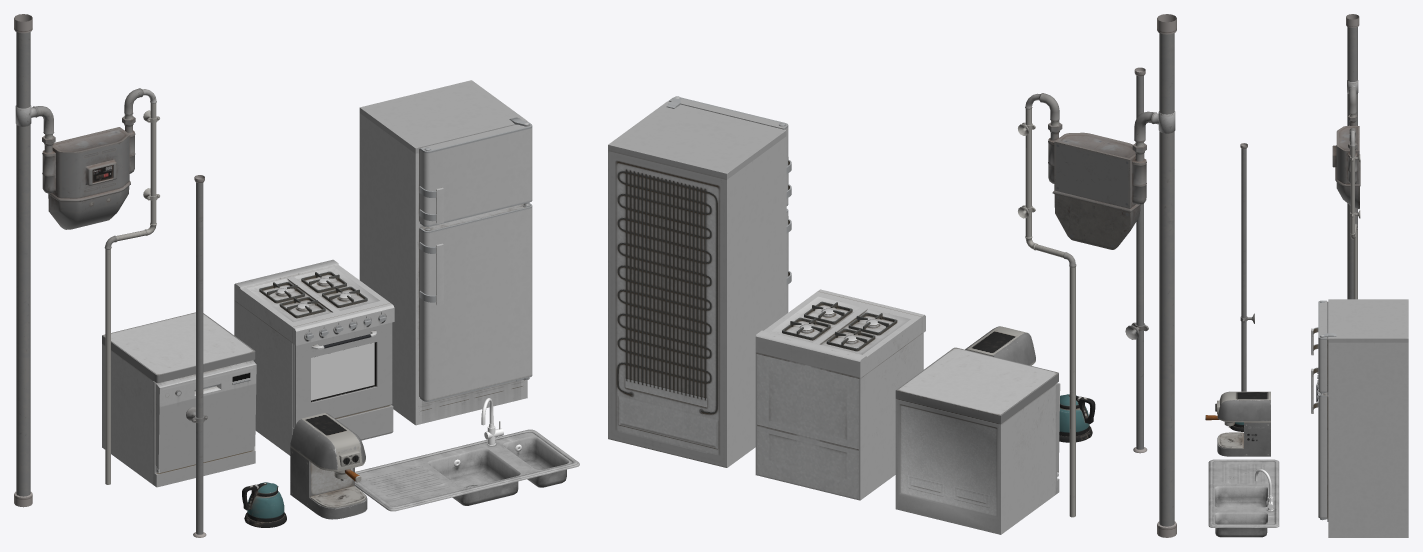
Rendered from Sketchfab_2023_03_18_18_37_07.fbx.
The picture shows the model from 3 angles, left to right: view 1: azimuth 30°, elevation 25°; view 2: azimuth 150°, elevation 25°; view 3: azimuth 270°, elevation 25°; orthographic projection. The views are drawn at different scales.
Parts seen in each view (by area): view 1: Refridgerator_A, Oven_A, Washing_Machine_A, Pipes_Kitchen_A, Sink_Kitchen_A, Coffeemachine_A, Pipes_Kitchen_A.001, Boiler_A; view 2: Refridgerator_A, Oven_A, Washing_Machine_A, Pipes_Kitchen_A, Pipes_Kitchen_A.001, Coffeemachine_A, Boiler_A; view 3: Refridgerator_A, Sink_Kitchen_A, Pipes_Kitchen_A, Coffeemachine_A, Pipes_Kitchen_A.001.
Part boxes in pixels (x1=…): Refridgerator_A: x1=359, y1=80, x2=532, y2=425; Oven_A: x1=234, y1=259, x2=394, y2=455; Washing_Machine_A: x1=102, y1=312, x2=256, y2=487; Pipes_Kitchen_A: x1=14, y1=14, x2=159, y2=507; Sink_Kitchen_A: x1=355, y1=398, x2=579, y2=511; Coffeemachine_A: x1=290, y1=413, x2=367, y2=519; Pipes_Kitchen_A.001: x1=186, y1=175, x2=207, y2=537; Boiler_A: x1=242, y1=482, x2=286, y2=527; Refridgerator_A: x1=608, y1=96, x2=791, y2=467; Oven_A: x1=755, y1=289, x2=925, y2=500; Washing_Machine_A: x1=895, y1=347, x2=1060, y2=534; Pipes_Kitchen_A: x1=1018, y1=14, x2=1176, y2=537; Pipes_Kitchen_A.001: x1=1125, y1=67, x2=1148, y2=453; Coffeemachine_A: x1=965, y1=326, x2=1035, y2=365; Boiler_A: x1=1059, y1=394, x2=1095, y2=442; Refridgerator_A: x1=1311, y1=299, x2=1408, y2=537; Sink_Kitchen_A: x1=1208, y1=459, x2=1279, y2=537; Pipes_Kitchen_A: x1=1332, y1=14, x2=1360, y2=299; Coffeemachine_A: x1=1205, y1=391, x2=1270, y2=456; Pipes_Kitchen_A.001: x1=1240, y1=143, x2=1254, y2=391.
Size of the model in its own units: 375 by 367 by 185.
